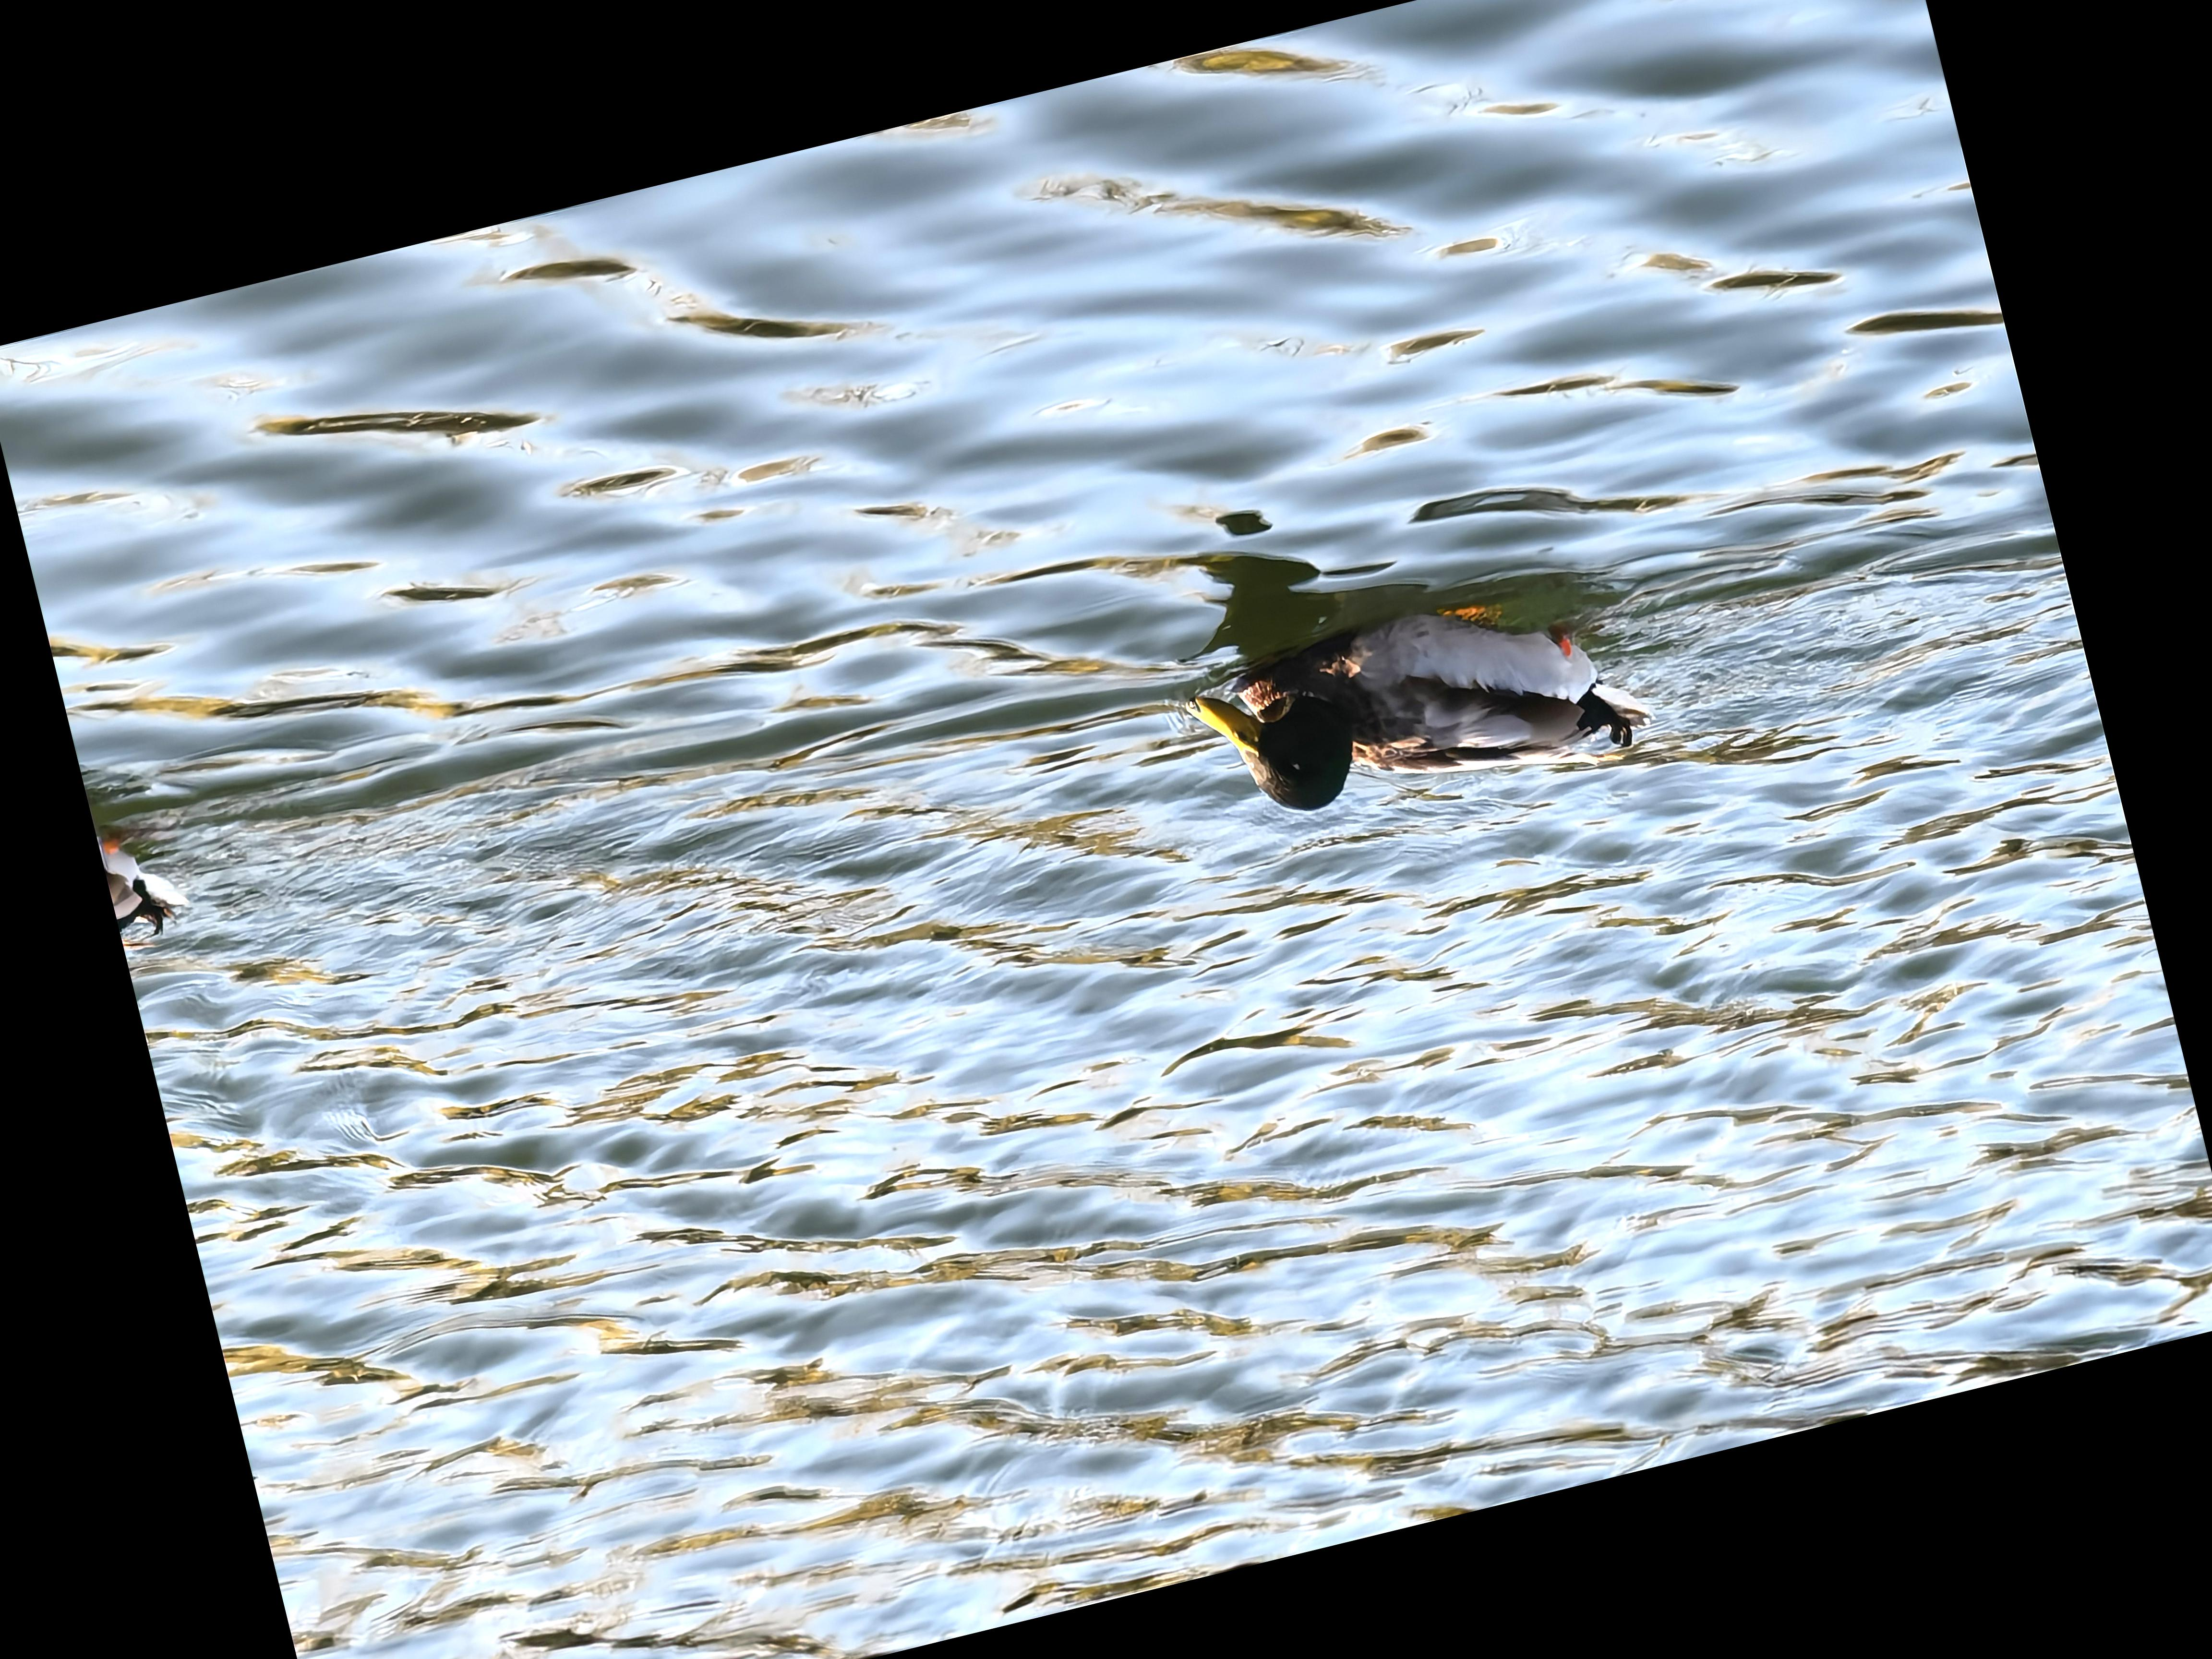duck: (1163, 526, 1717, 854)
